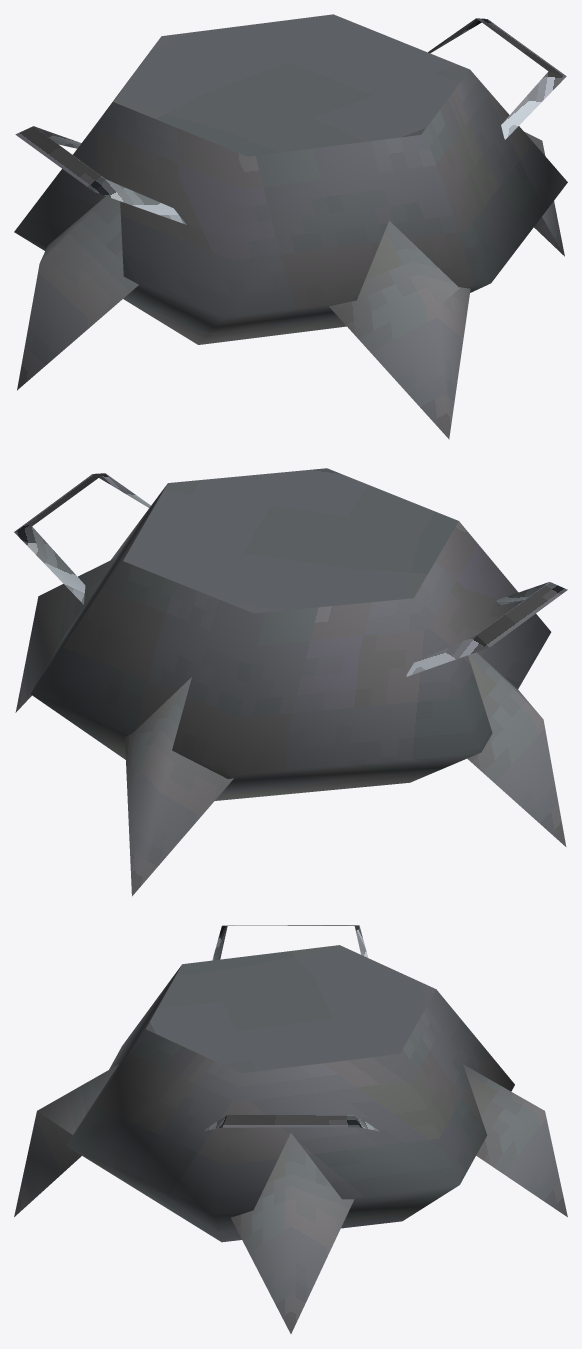
File: eqp_cook_pot_sm_l3.fbx
3 views of the same model, one above another, from view 1: azimuth 30°, elevation 25°; view 2: azimuth 150°, elevation 25°; view 3: azimuth 270°, elevation 25° (orthographic). The views are drawn at different scales.
Parts seen in each view (by area): view 1: mesh_node; view 2: mesh_node; view 3: mesh_node.
Part boxes in pixels (box(x1,y1,x2,y2)): mesh_node: box(14, 14, 567, 439); mesh_node: box(14, 468, 567, 896); mesh_node: box(14, 925, 567, 1333).
Bounding box in the file's own units: 0.3926 × 0.1631 × 0.3926.
